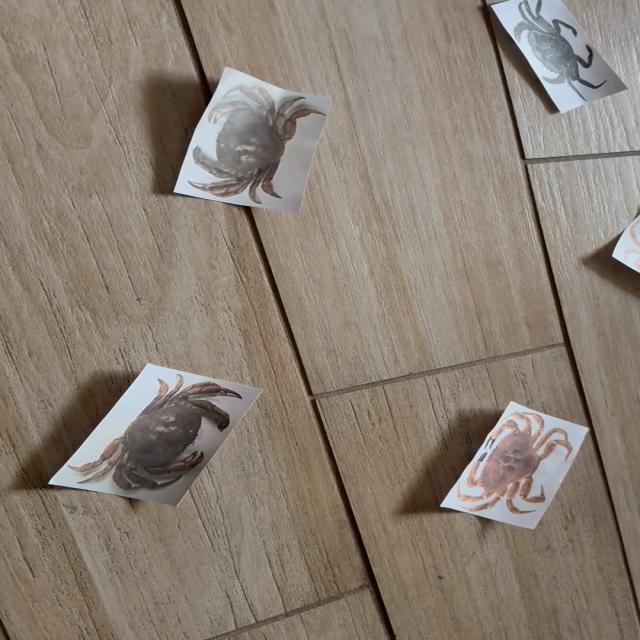egc: (491, 0, 626, 112)
